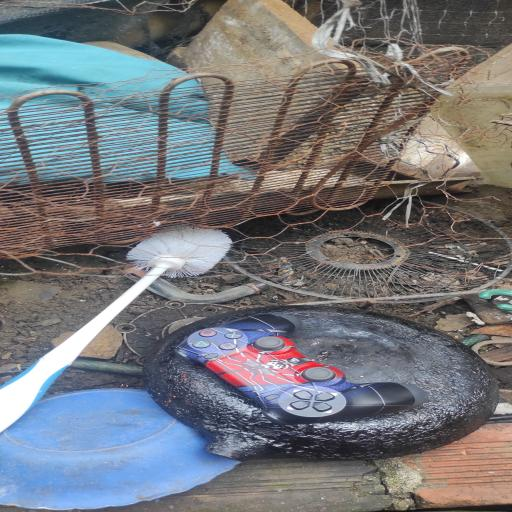ControlPlay4: (177, 314, 424, 424)
